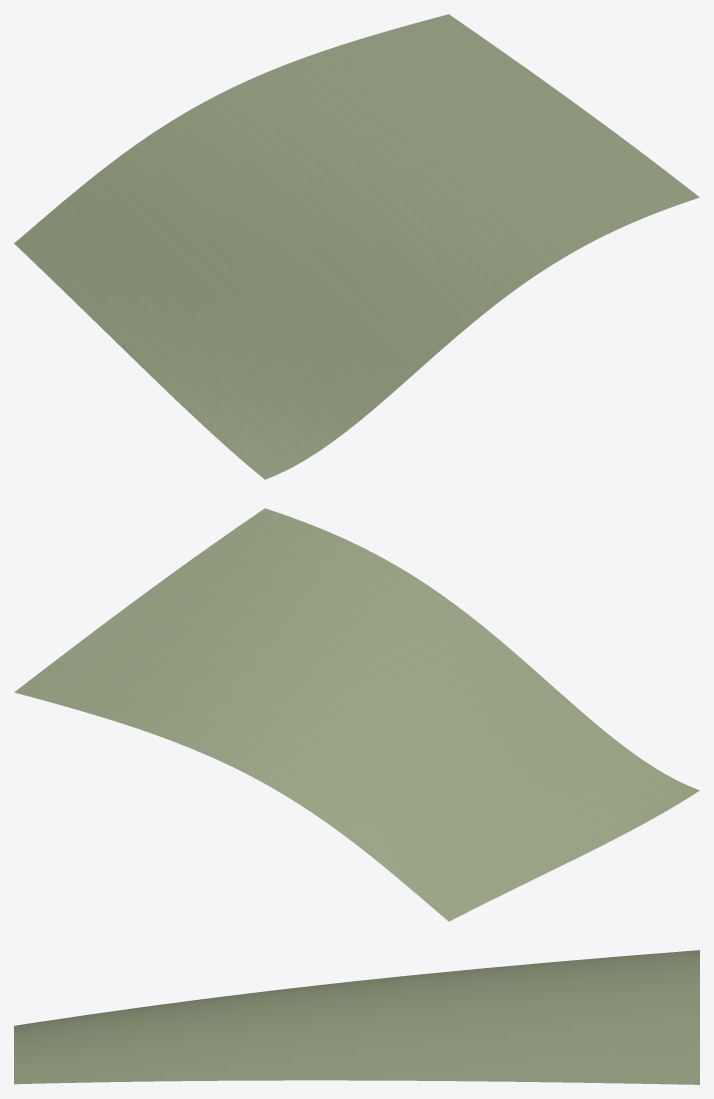
File: expanse-14-28.glb
3 renders of one model, top to bottom at view 1: azimuth 30°, elevation 25°; view 2: azimuth 150°, elevation 25°; view 3: azimuth 270°, elevation 25°, orthographic. The views are drawn at different scales.
Visible parts, largest first — view 1: expanse-14-28; view 2: expanse-14-28; view 3: expanse-14-28.
Boxes of the visible parts, x1,y1,x2,y2 form: expanse-14-28: (14, 14, 699, 479); expanse-14-28: (14, 508, 699, 921); expanse-14-28: (14, 950, 699, 1084).
Size of the model in its own units: 256 by 101 by 256.
